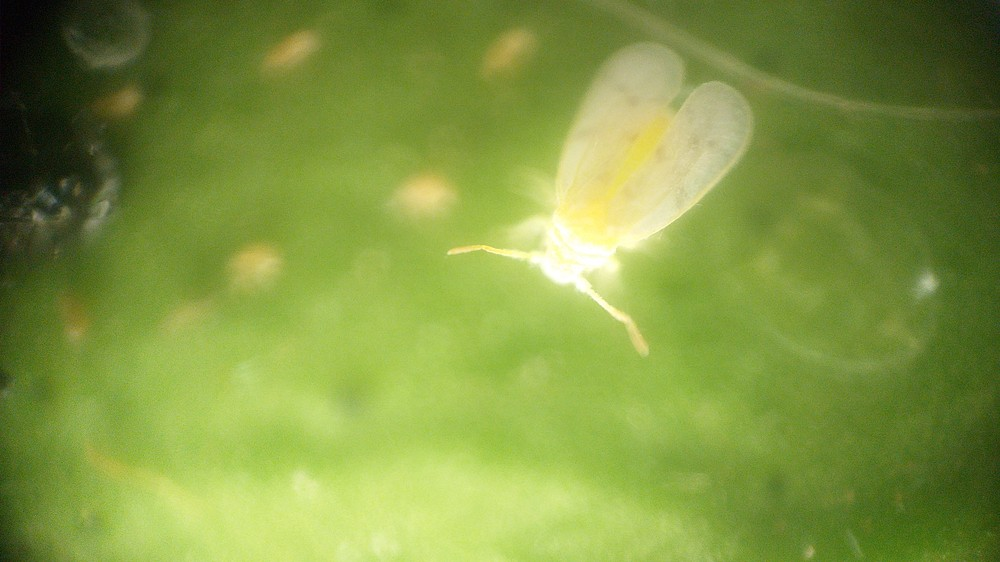Mosca Blanca: (442, 39, 792, 371)
